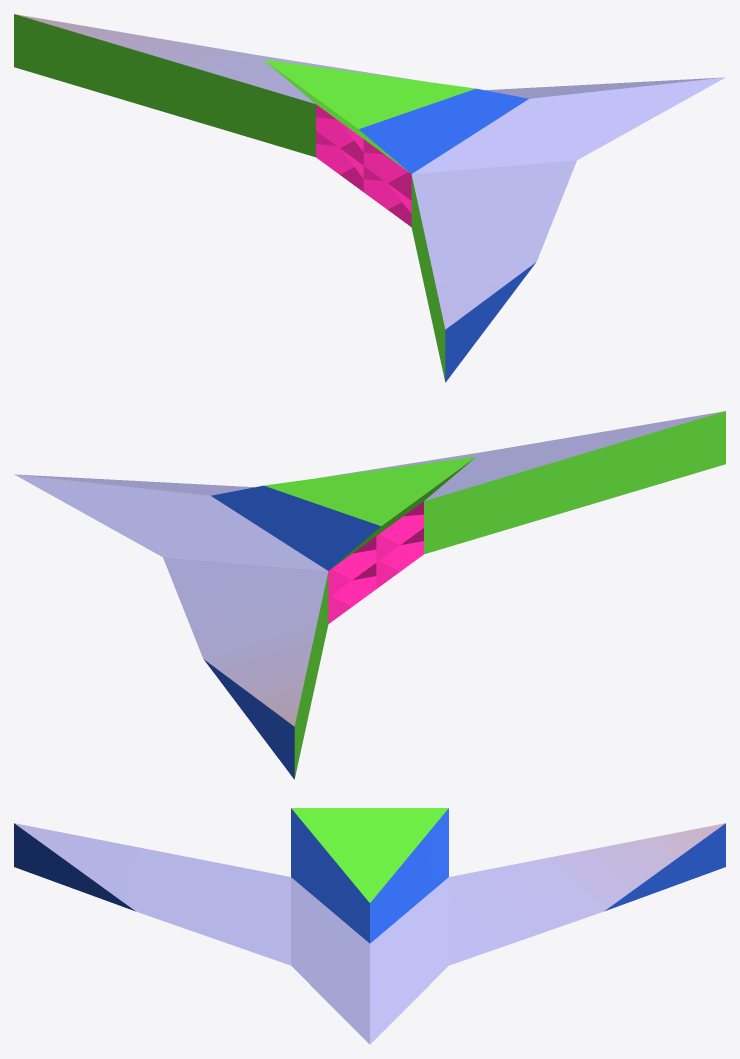
The model's file is PlayerShip.fbx.
3 renders of one model, top to bottom at view 1: azimuth 30°, elevation 25°; view 2: azimuth 150°, elevation 25°; view 3: azimuth 270°, elevation 25°, orthographic. The views are drawn at different scales.
Visible parts, largest first — view 1: Cube; view 2: Cube; view 3: Cube.
Part boxes in pixels (x1,y1,x2,y2): Cube: [14, 14, 725, 382]; Cube: [14, 411, 725, 779]; Cube: [14, 808, 725, 1044].
Bounding box in the file's own units: 600 × 128 × 903.
Materials: 1 (1 with a texture image).
